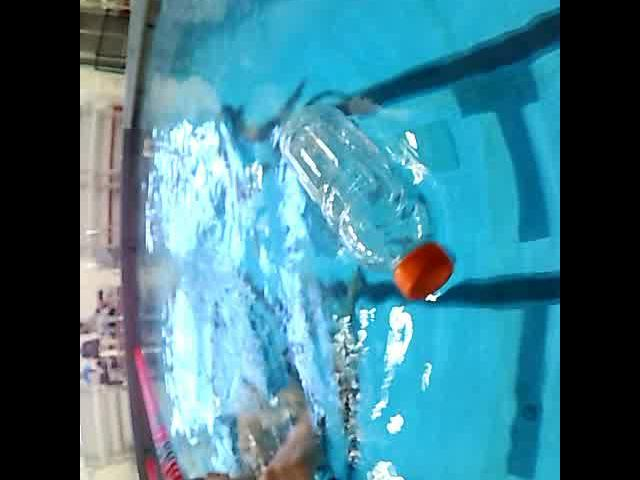Bottle: (274, 96, 460, 304)
